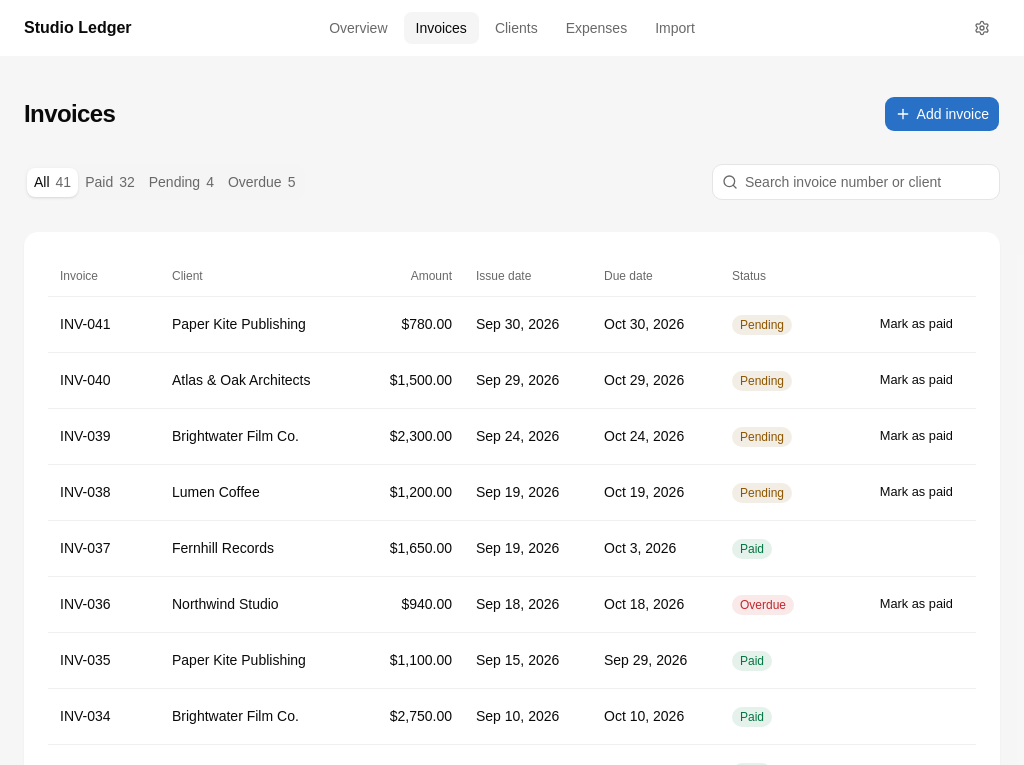
it: Add, edit and delete invoices › shows an error only after leaving a field
Click the button "Add invoice". click: {"x": 942, "y": 114}
box: [884,96,1000,132]
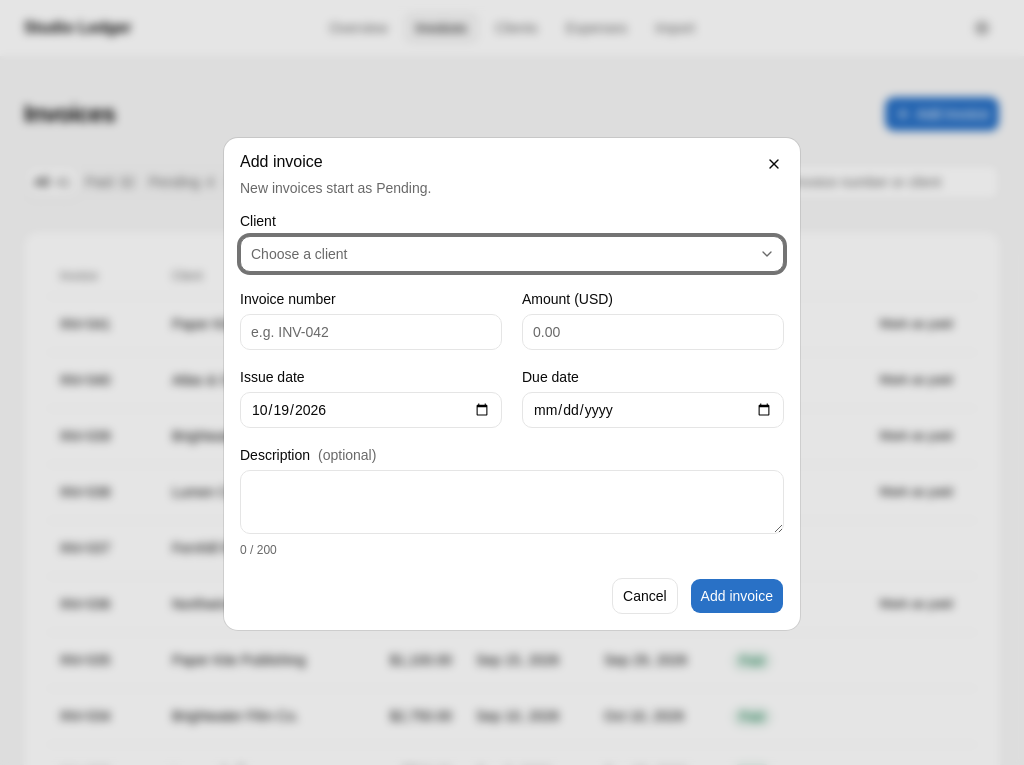
Click the field labelled "Invoice number". click: {"x": 371, "y": 332}
box: [240,314,502,350]
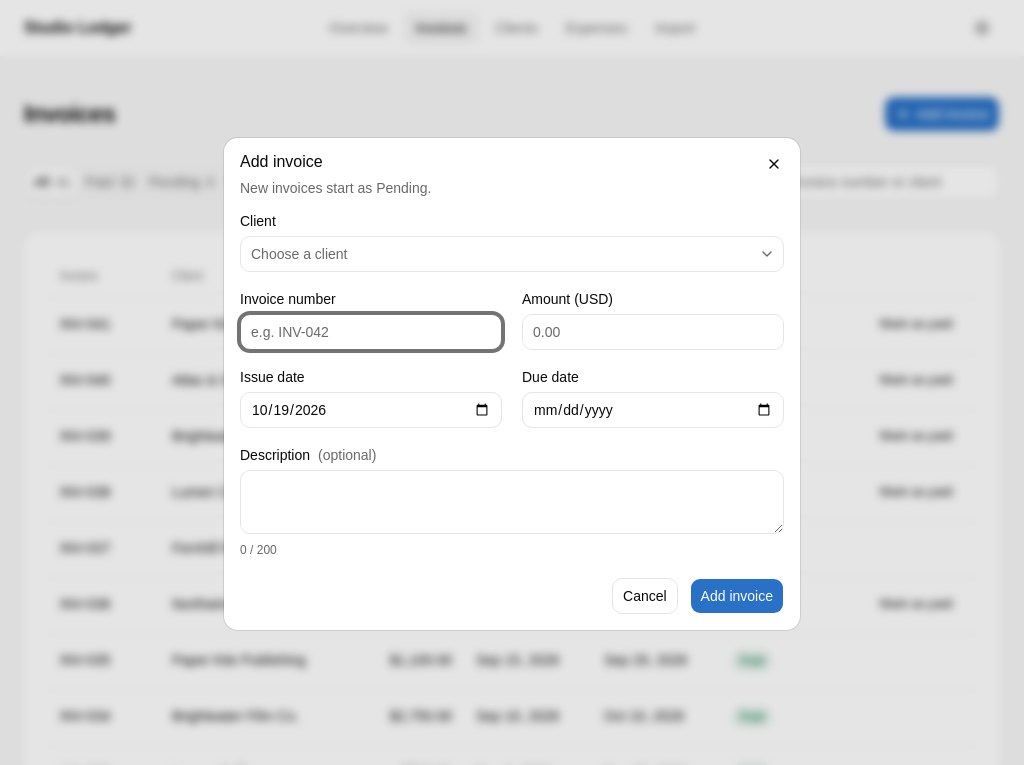
Expected: the text "Enter an invoice number." is not shown
Press Tab
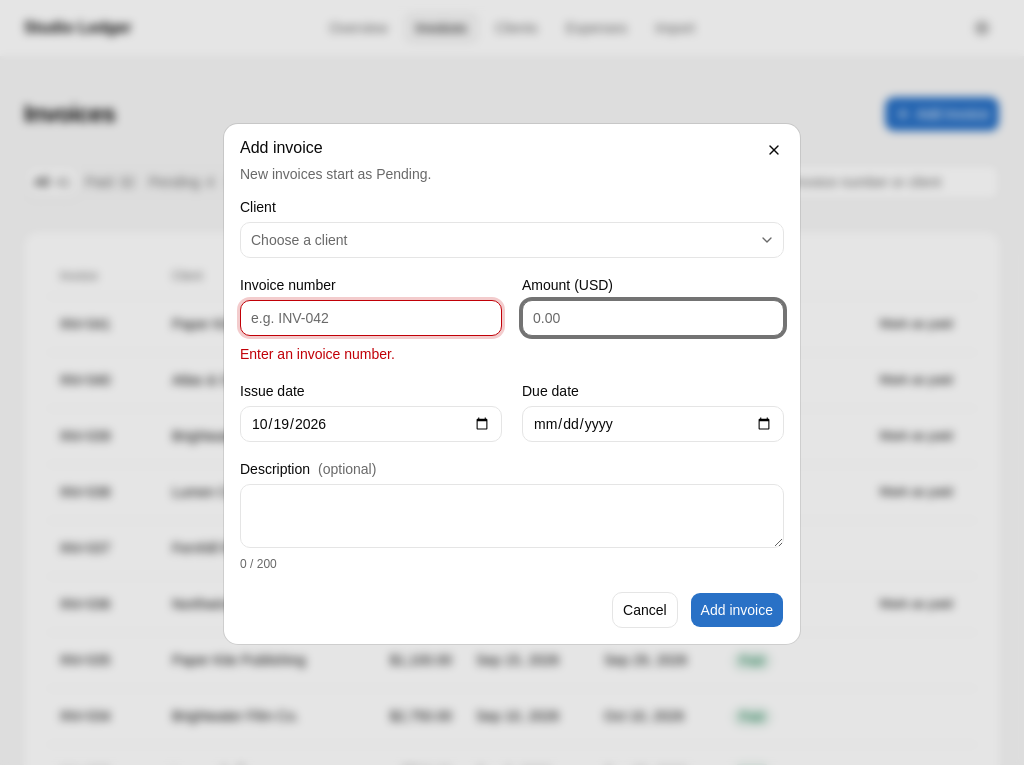
Now the text "Enter an invoice number." is shown, box [240,346,395,362]
